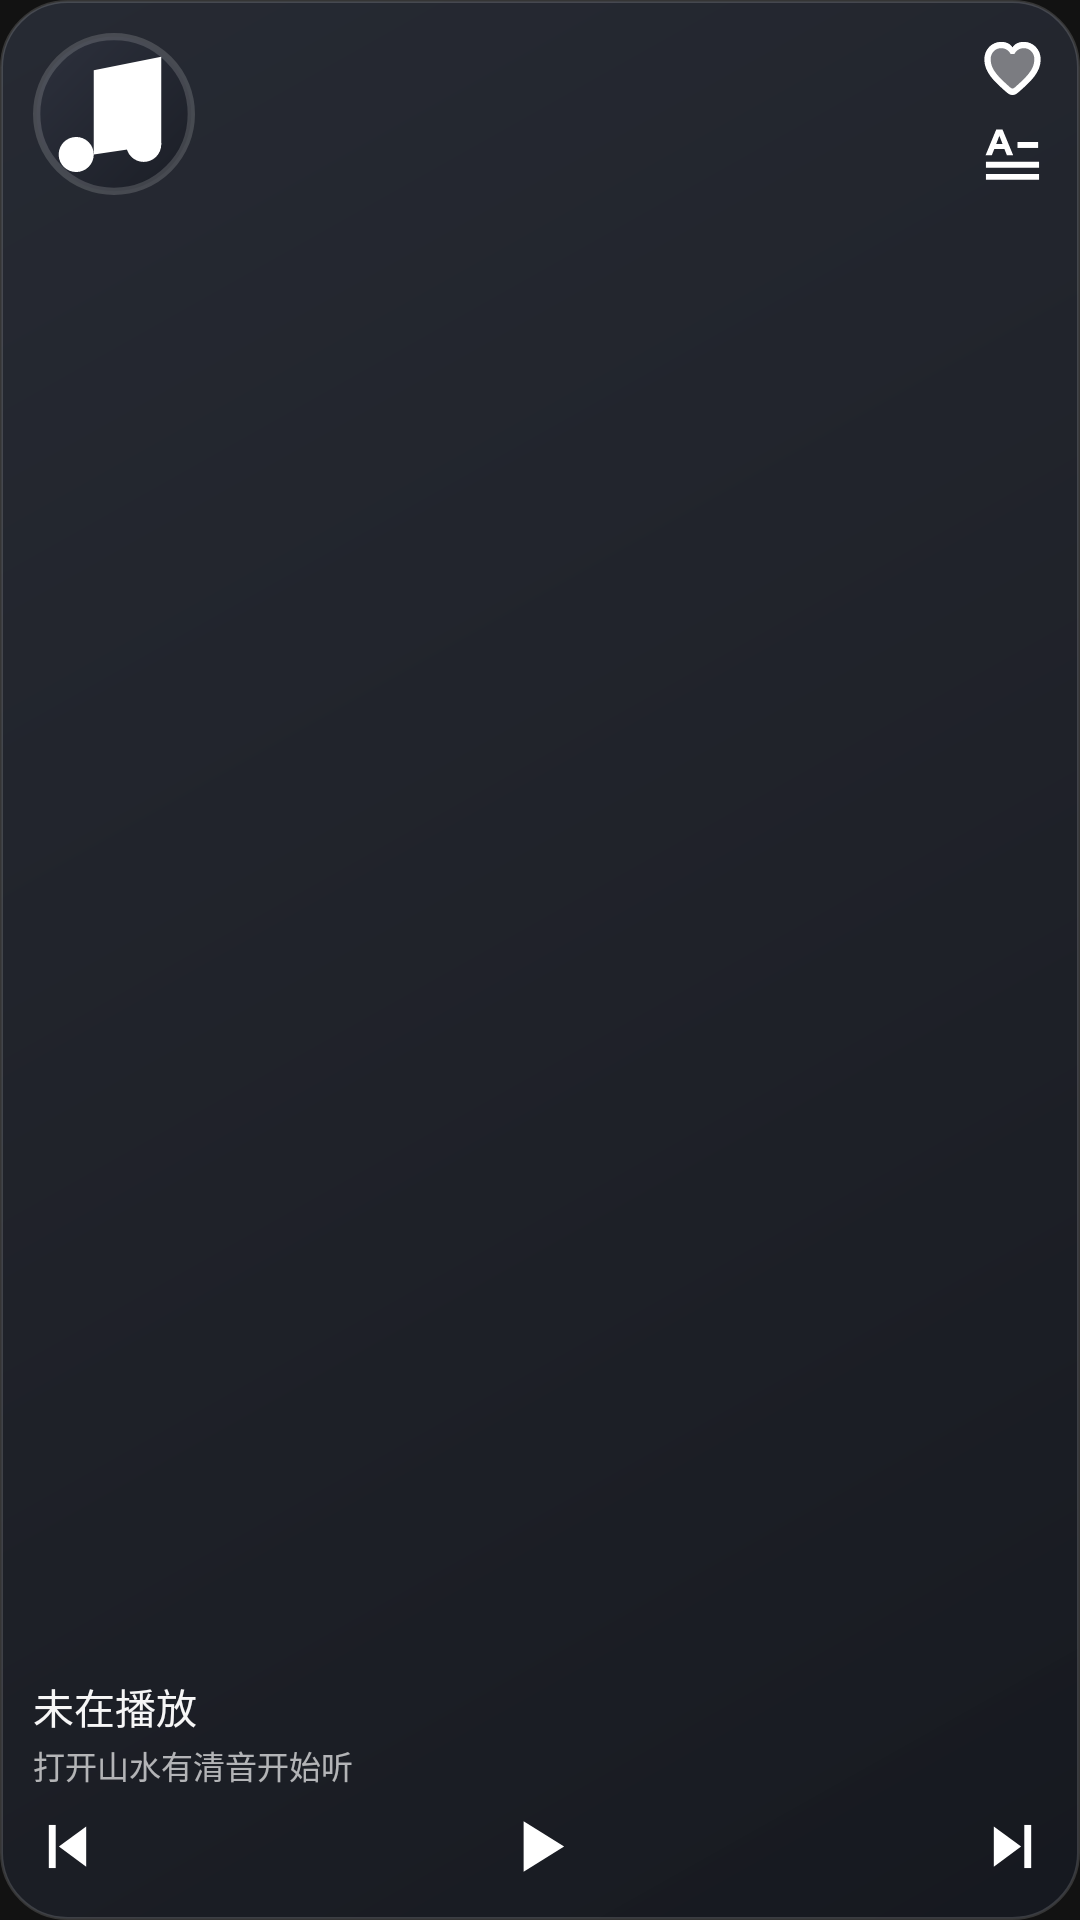

Named icons in this screenshot (1080px x 1920px) and their centers, (x=x, y=y):
上一首: (x=67, y=1846)
下一首: (x=1012, y=1846)
播放或暂停: (x=543, y=1846)
收藏或取消收藏: (x=1012, y=68)
显示或隐藏歌词: (x=1012, y=154)
